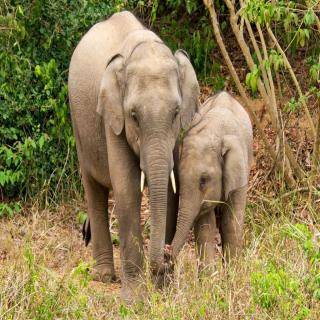Elephant: (70, 6, 204, 306), (162, 94, 268, 290)
